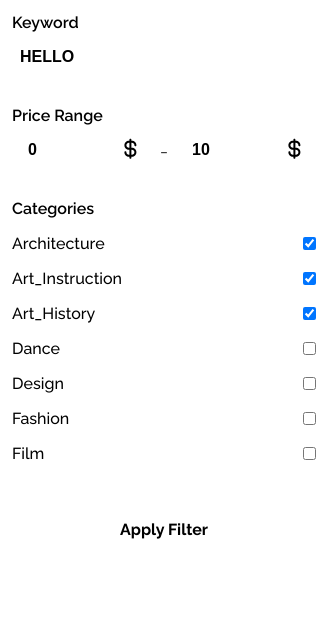
Test case: Test Component : Filter › test max and min filter inputs › if any of max and min have NaN value return error on click on the apply
Replace the text in the field with test id "booksFilterMaxInput" with "sss" at [246, 150], box x1=176 y1=133 x2=316 y2=167
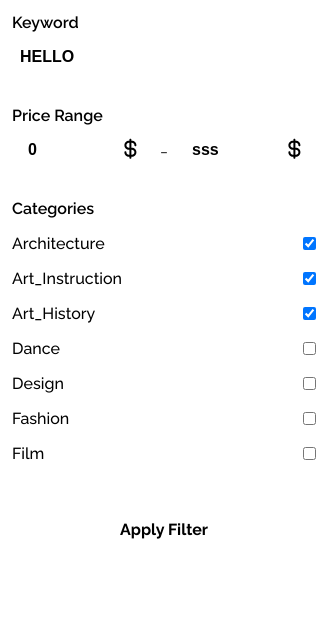
Click the button with test id "booksFilterApplyFilterButton" at [164, 530], box x1=12 y1=514 x2=316 y2=546
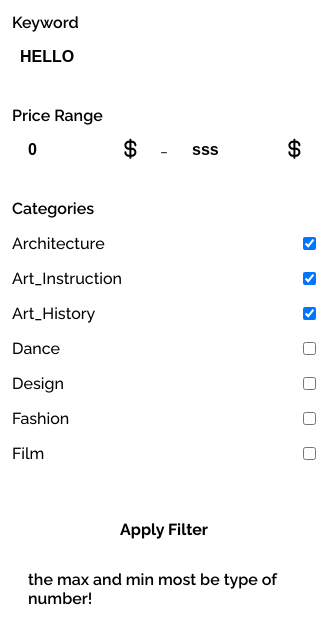
Result: the element with test id "errorMessage" reads "the max and min most be type of number!" at x1=28 y1=570 x2=277 y2=608
